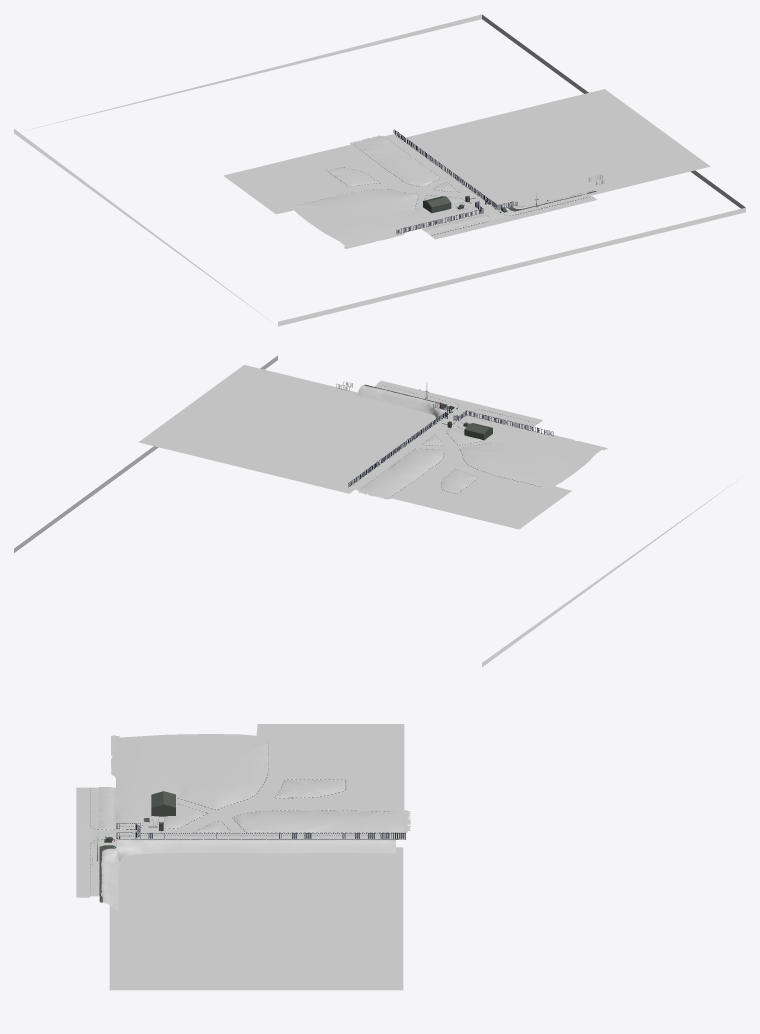
The model's file is envSetting.glb.
The picture shows the model from 3 angles, top to bottom: view 1: azimuth 30°, elevation 25°; view 2: azimuth 150°, elevation 25°; view 3: azimuth 270°, elevation 25°; orthographic projection. The views are drawn at different scales.
Visible parts, largest first — view 1: Earth(Water), Asphalt, Grass3, ground, Fence, Stones, LightAsphalt; view 2: Earth(Water), Asphalt, Grass3, ground, Grass, Fence, Stones, LightAsphalt; view 3: Earth(Water), Asphalt, Grass3, Grass, LightAsphalt, Stones, Fence, All, Grass2.
Part boxes in pixels (bbox=[...]): Earth(Water): bbox=[403, 89, 710, 206]; Asphalt: bbox=[223, 134, 597, 239]; Grass3: bbox=[294, 135, 483, 248]; ground: bbox=[14, 14, 745, 326]; Fence: bbox=[393, 129, 517, 234]; Stones: bbox=[299, 135, 590, 235]; LightAsphalt: bbox=[422, 194, 591, 235]; Earth(Water): bbox=[138, 365, 436, 493]; Asphalt: bbox=[349, 380, 571, 529]; Grass3: bbox=[357, 415, 607, 499]; ground: bbox=[14, 355, 738, 667]; Grass: bbox=[349, 385, 451, 485]; Fence: bbox=[348, 403, 553, 487]; Stones: bbox=[350, 384, 541, 497]; LightAsphalt: bbox=[374, 384, 537, 429]; Earth(Water): bbox=[109, 847, 403, 990]; Asphalt: bbox=[76, 724, 404, 897]; Grass3: bbox=[111, 734, 410, 832]; Grass: bbox=[101, 839, 395, 911]; LightAsphalt: bbox=[90, 787, 116, 896]; Stones: bbox=[90, 742, 398, 895]; Fence: bbox=[116, 823, 405, 839]; All: bbox=[104, 791, 175, 842]; Grass2: bbox=[98, 786, 113, 829].
Size of what is drawn, in the model's own units: 1185 by 106 by 1158.
4 materials, 3 textured.
